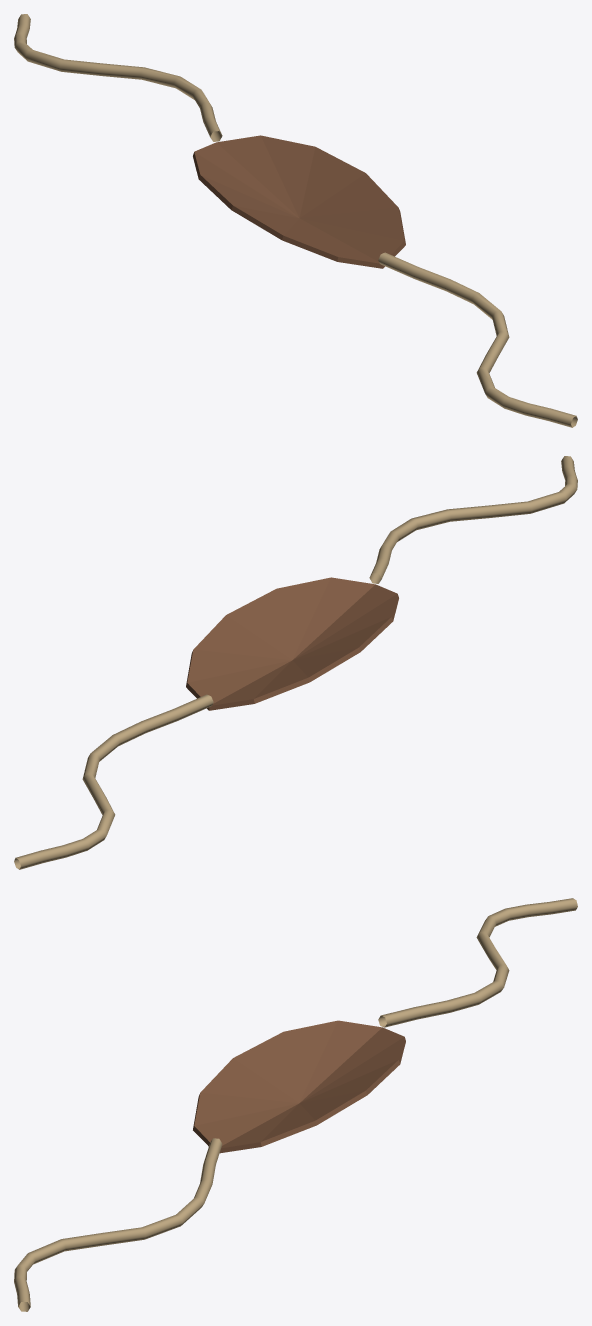
File: sling-oval-pouch.glb
3 views of the same model, one above another, from view 1: azimuth 30°, elevation 25°; view 2: azimuth 150°, elevation 25°; view 3: azimuth 330°, elevation 25° (orthographic).
Parts seen in each view (by area): view 1: sling-oval-pouch runtime mesh; view 2: sling-oval-pouch runtime mesh; view 3: sling-oval-pouch runtime mesh.
Part boxes in pixels (box(x1,y1,x2,y2)): sling-oval-pouch runtime mesh: box(14, 14, 577, 427); sling-oval-pouch runtime mesh: box(14, 456, 577, 869); sling-oval-pouch runtime mesh: box(14, 898, 577, 1311).
Size of the model in its own units: 0.1231 by 0.0313 by 0.8645.
